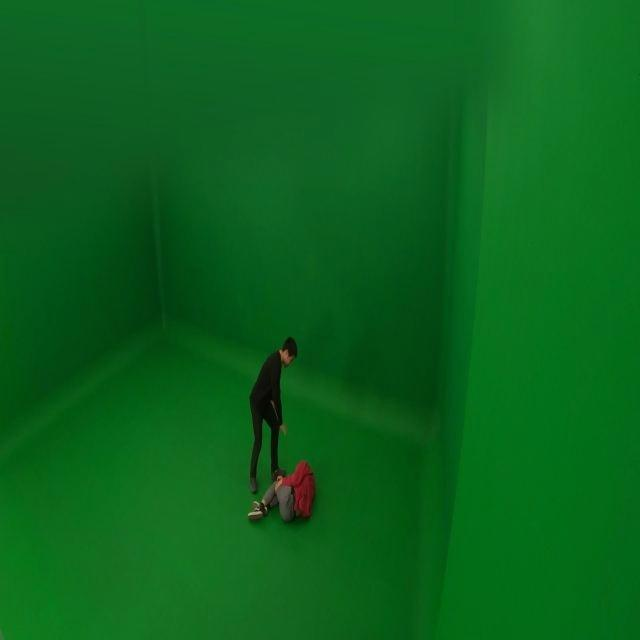fight: (244, 335, 324, 527)
